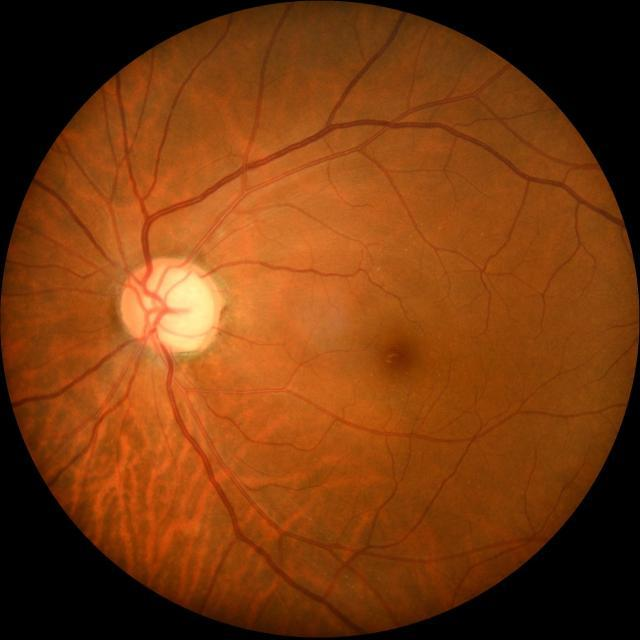OC: (142, 270, 213, 350)
OD: (119, 258, 218, 352)
